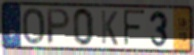0: (72, 7, 97, 47)
3: (149, 9, 172, 50)
F: (122, 9, 147, 49)
K: (100, 9, 120, 47)
O: (21, 7, 46, 46)
P: (46, 7, 73, 46)
